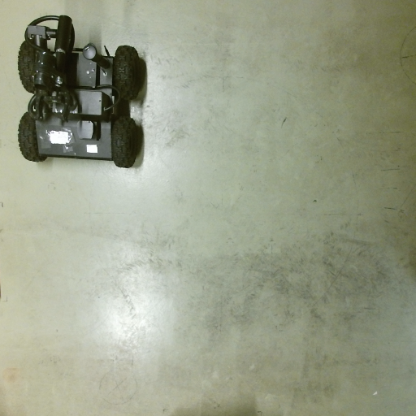Jaguar: (14, 8, 144, 172)
